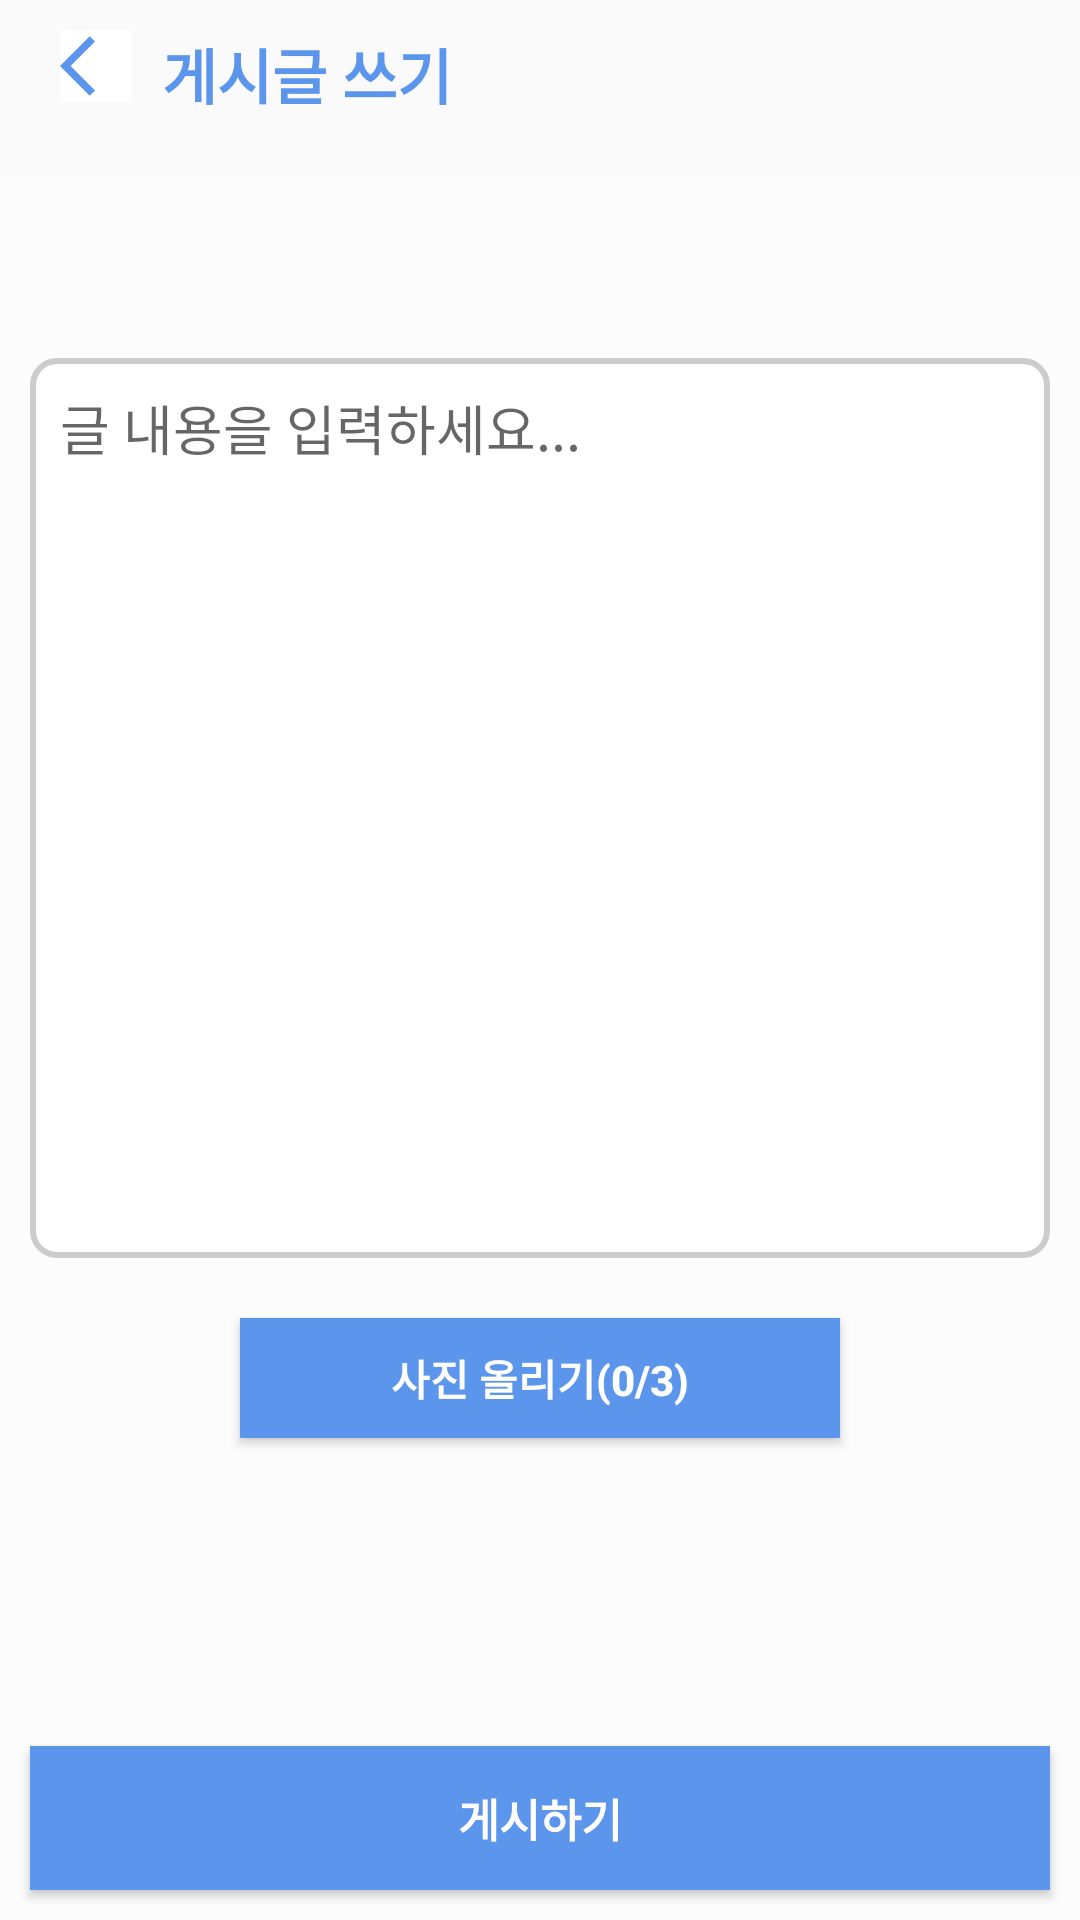

Where icons sit on this 1080*1920 app screen, as bbox=[x1, y1, x2, y2]:
arrow back: bbox=[60, 36, 95, 96]
